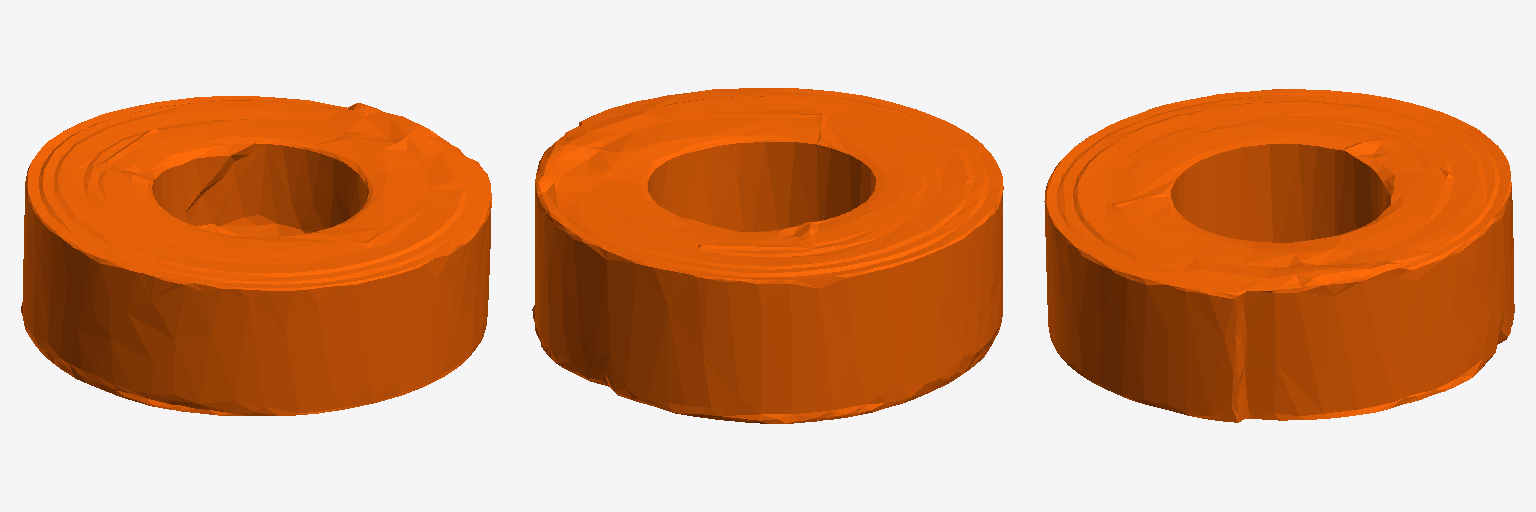
robot.urdf — big_tape:
<?xml version="1.0" ?>
<robot name="big_tape">
   <material name="obj_color">
      <color rgba="1.0 0.423529411765 0.0392156862745 1.0"/>
   </material>
   <link name="top">
      <inertial>
         <origin rpy="0.003438445973632526 0.003728847986290845 0.006453712620494415" xyz="-0.002262198548261157 -0.003130451717750282 -0.0038649492504547"/>
         <mass value="1.615381662030731"/>
         <inertia ixx="0.003582820010225725" ixy="0.0001451024153573787" ixz="1.548909035416015e-05" iyy="0.003584669182669363" iyz="-1.865897569172279e-05" izz="0.006453517387522697"/>
      </inertial>
      <visual>
         <origin rpy="0 0 0" xyz="0 0 0"/>
         <geometry>
            <mesh filename="top_watertight_tiny.stl" scale="1 1 1"/>
         </geometry>
         <material name="obj_color"/>
      </visual>
      <collision>
         <origin rpy="0 0 0" xyz="0 0 0"/>
         <geometry>
            <mesh filename="top_watertight_tiny.obj" scale="1 1 1"/>
         </geometry>
      </collision>
   </link>
   <link name="bottom">
      <inertial>
         <origin rpy="1.633333333199431e-08 1.633333333199431e-08 1.633333333362855e-08" xyz="0.3464080000000008 0.3464080000000008 0.3464080000000008"/>
         <mass value="0.0009800000000000017"/>
         <inertia ixx="1.633333333253906e-08" ixy="5.447480642029219e-19" ixz="5.447480642029219e-19" iyy="1.633333333253906e-08" iyz="5.447480642029219e-19" izz="1.633333333253906e-08"/>
      </inertial>
      <visual>
         <origin rpy="0 0 0" xyz="0 0 0"/>
         <geometry>
            <mesh filename="bottom_watertight_tiny.stl" scale="1 1 1"/>
         </geometry>
         <material name="obj_color"/>
      </visual>
   </link>
   <link name="world"/>
   <joint name="world_to_base" type="fixed">
      <origin xyz="0 0 0"/>
      <axis xyz="0 0 0"/>
      <parent link="world"/>
      <child link="bottom"/>
   </joint>
   <joint name="rotation" type="revolute">
      <origin xyz="0 0 0"/>
      <axis xyz="0 0 -1"/>
      <parent link="bottom"/>
      <child link="top"/>
      <dynamics damping="1.0" friction="1.0"/>
      <limit effort="0.1" velocity="0.1" lower="0" upper="0.001"/>
   </joint>
</robot>

--- Facts derived from the render (not from the file) ---
Views: 3 orthographic renders of the robot side by side, from view 1: azimuth 30°, elevation 25°; view 2: azimuth 150°, elevation 25°; view 3: azimuth 270°, elevation 25°.
Model big_tape with 3 links and 2 joints (1 revolute, 1 fixed), rooted at world, posed all joints at 0.
Visible links, largest first — view 1: top; view 2: top; view 3: top.
Link boxes in pixels (<box>): top: <box>21,96,491,415</box>; top: <box>532,88,1003,423</box>; top: <box>1044,89,1514,422</box>.
Bounding box of the posed robot: 0.1637 × 0.1632 × 0.0537 m (x, y, z).
Meshes: 2 distinct files referenced, 1 mesh visuals loaded (1 binary STL); not drawn: 1 (reference not matched to a file when rendering).
